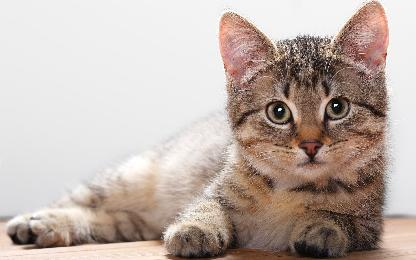Cat: (2, 3, 402, 260)
